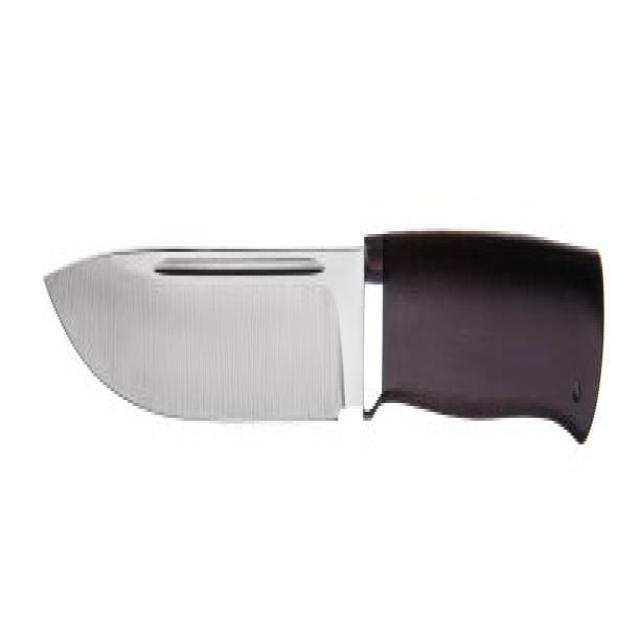knife: (40, 223, 612, 457)
